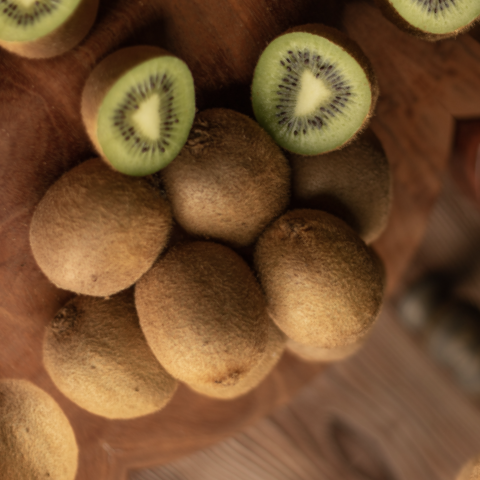kiwi: (0, 121, 211, 335), (107, 209, 318, 420), (126, 71, 330, 276), (225, 180, 426, 382), (7, 255, 205, 454)
